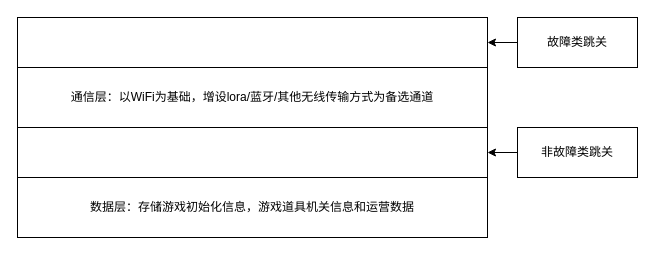
Image size: 655x255. Some labels were removed from this diagram. The shapes that lost their labels are listed below. From the top down, each one's box as (x1, y1, x2, y2) in pixels, then its label:
(16, 16, 488, 68): 交互层：包含所有的传感器和效果呈现设备
(16, 126, 488, 178): 逻辑层：包含游戏中所有逻辑
